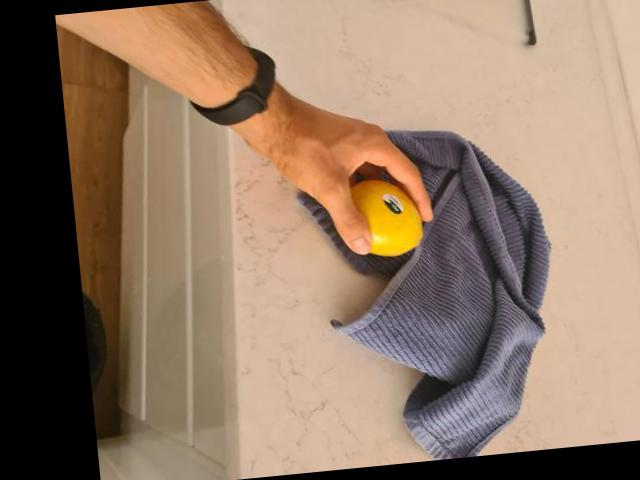lemon: (338, 172, 423, 262)
